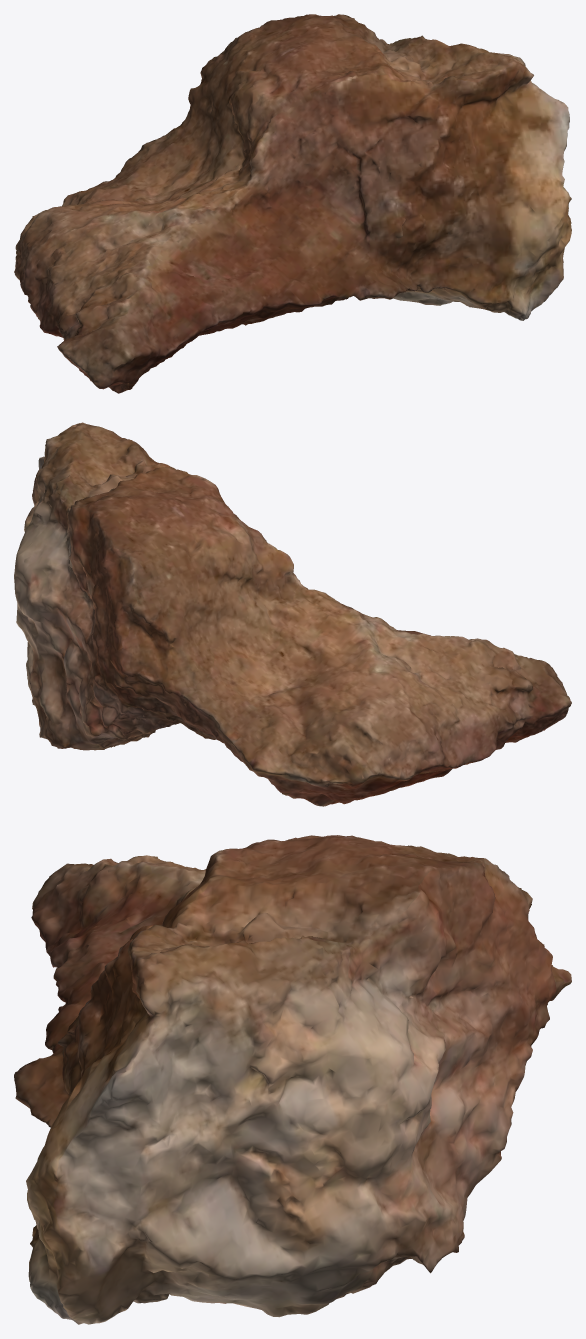
File: stone_01.glb
3 views of the same model, one above another, from view 1: azimuth 30°, elevation 25°; view 2: azimuth 150°, elevation 25°; view 3: azimuth 270°, elevation 25° (orthographic). The views are drawn at different scales.
Parts seen in each view (by area): view 1: stone_01; view 2: stone_01; view 3: stone_01.
Boxes of the visible parts, x1,y1,x2,y2 form: stone_01: [14, 14, 571, 393]; stone_01: [14, 422, 571, 806]; stone_01: [14, 835, 571, 1324].
Size of the model in its own units: 0.1469 by 0.0718 by 0.0891.
Materials: 1 (1 with a texture image).
